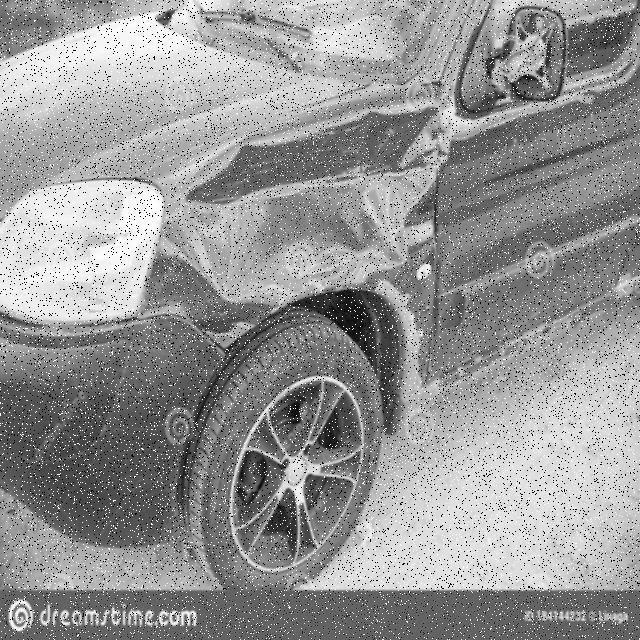Runningboard-Damage: (439, 335, 546, 395), (543, 278, 640, 342)
Sidemirror-Damage: (479, 1, 583, 120)
fender-dent: (168, 107, 433, 399)
